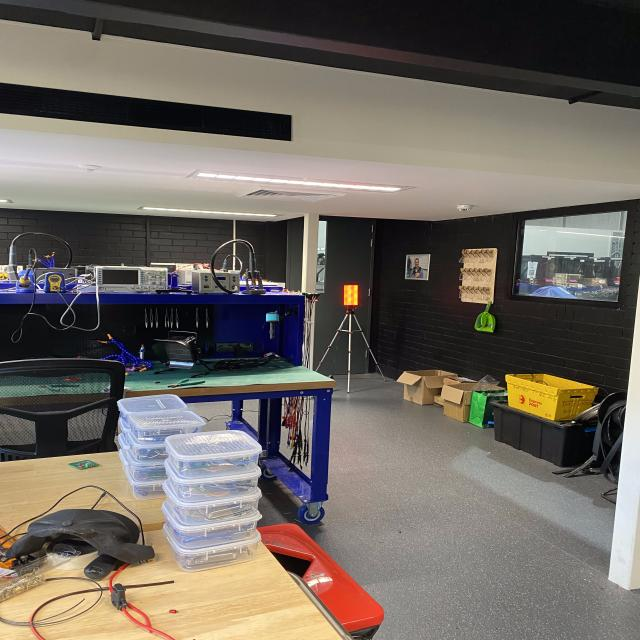matrix: (341, 284, 361, 306)
